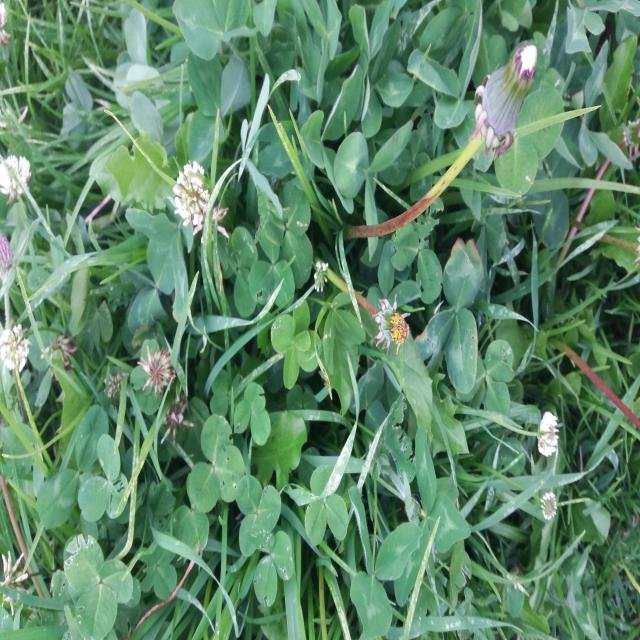Four Leaf Clover: (270, 299, 321, 389)
